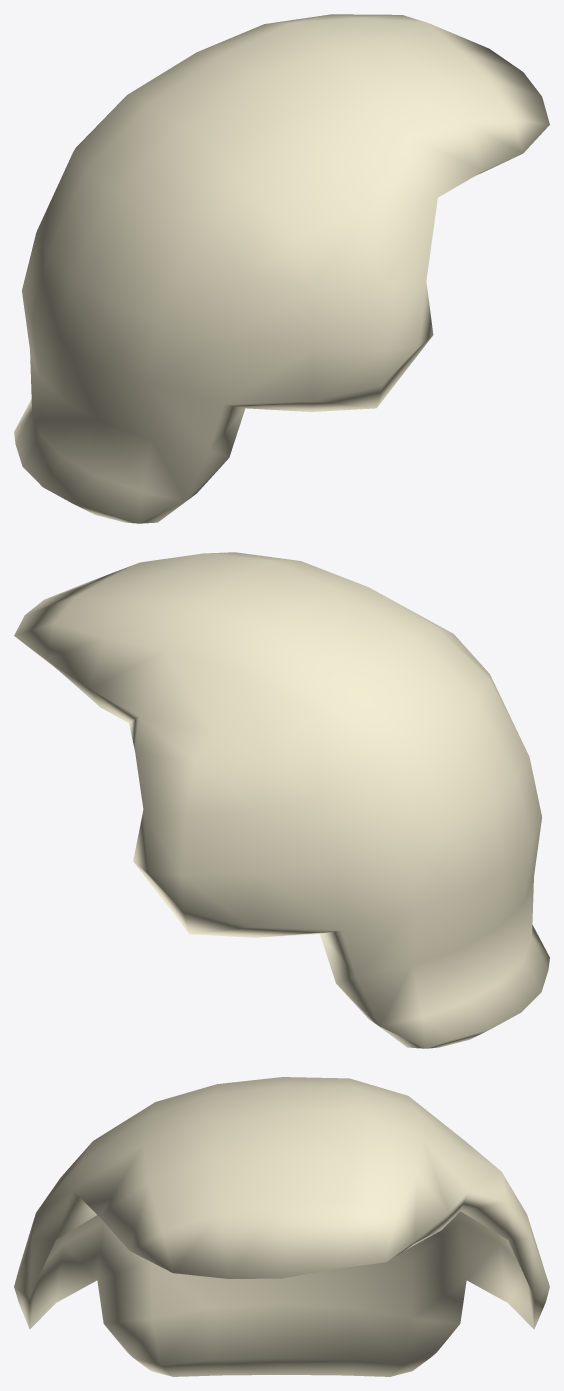
The model's file is wig.glb.
3 renders of one model, top to bottom at view 1: azimuth 30°, elevation 25°; view 2: azimuth 150°, elevation 25°; view 3: azimuth 270°, elevation 25°, orthographic. The views are drawn at different scales.
Parts seen in each view (by area): view 1: hair; view 2: hair; view 3: hair.
Boxes of the visible parts, x1,y1,x2,y2 form: hair: [14, 14, 549, 523]; hair: [14, 552, 549, 1048]; hair: [14, 1077, 549, 1376].
Bounding box in the file's own units: 1.09 × 0.832 × 1.03.
